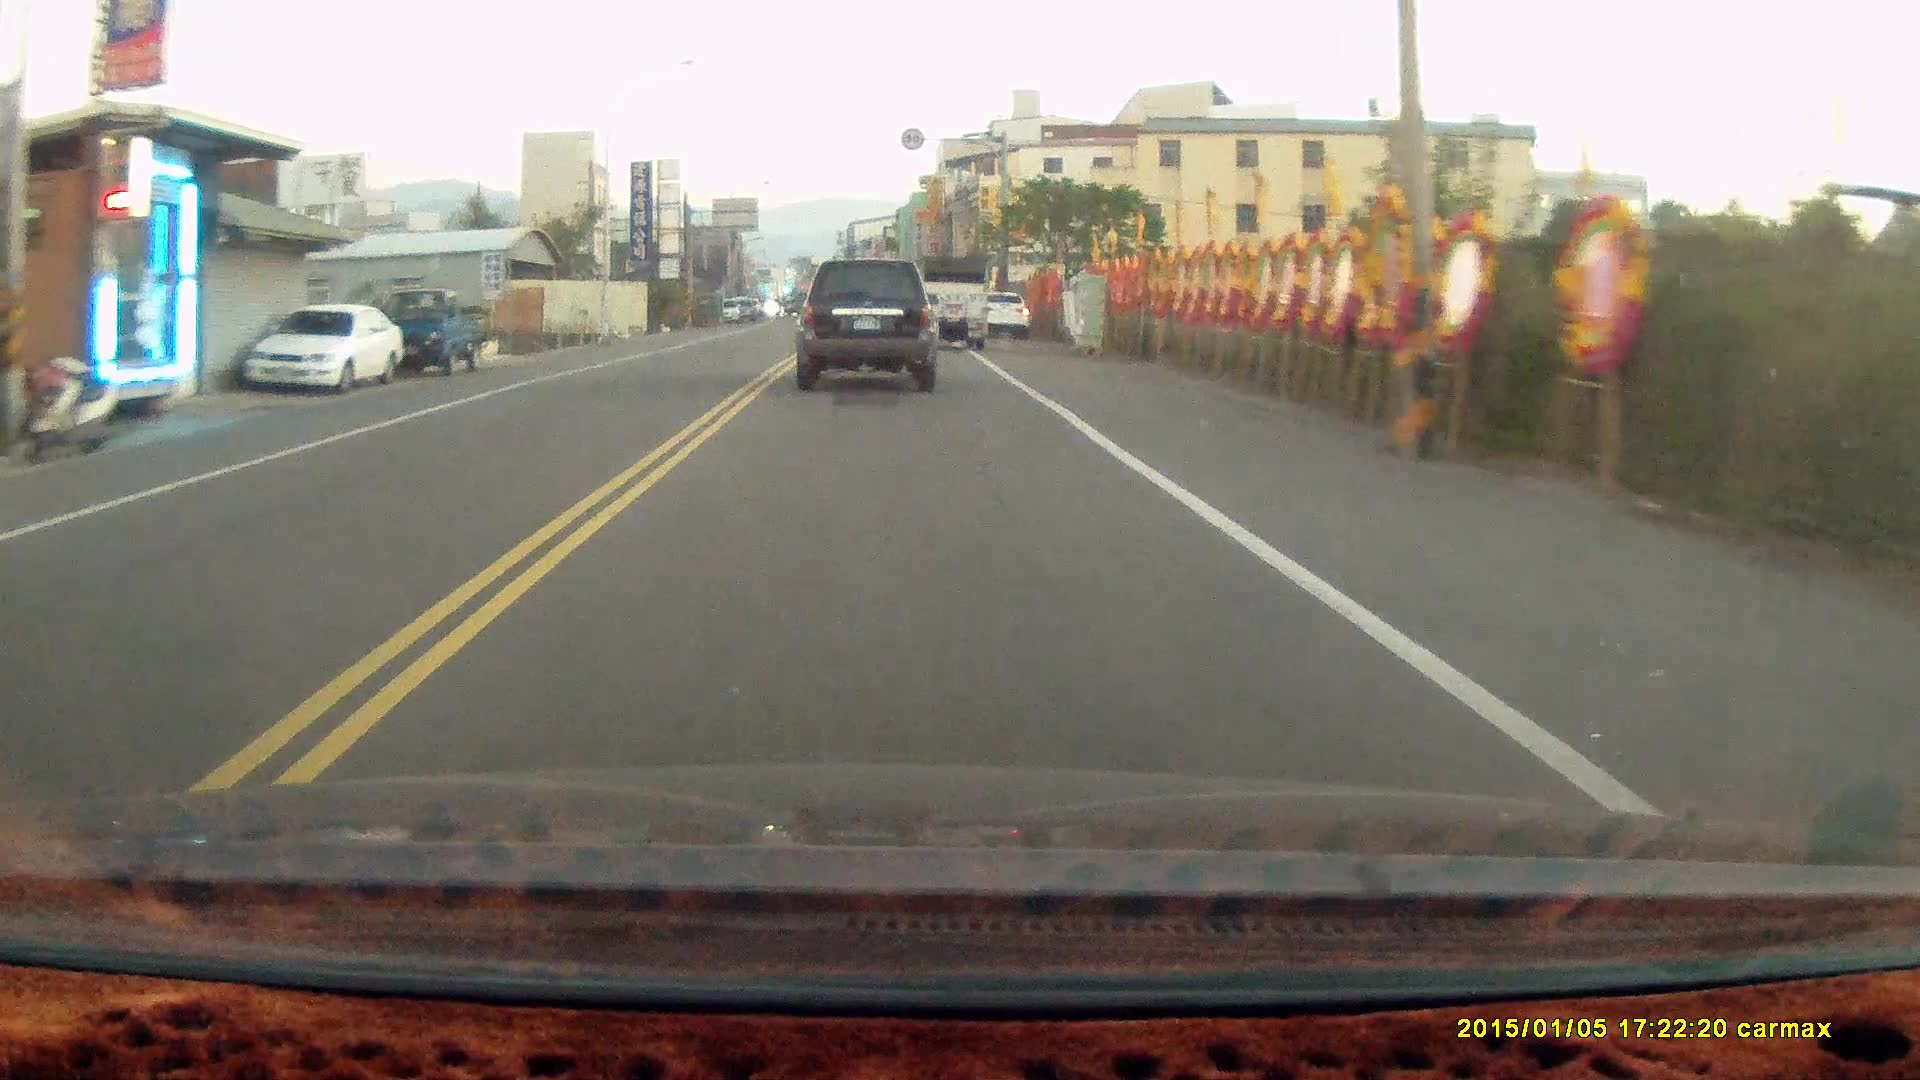vehicle: (800, 253, 945, 388), (247, 301, 407, 394), (378, 287, 492, 380), (918, 251, 994, 349)
